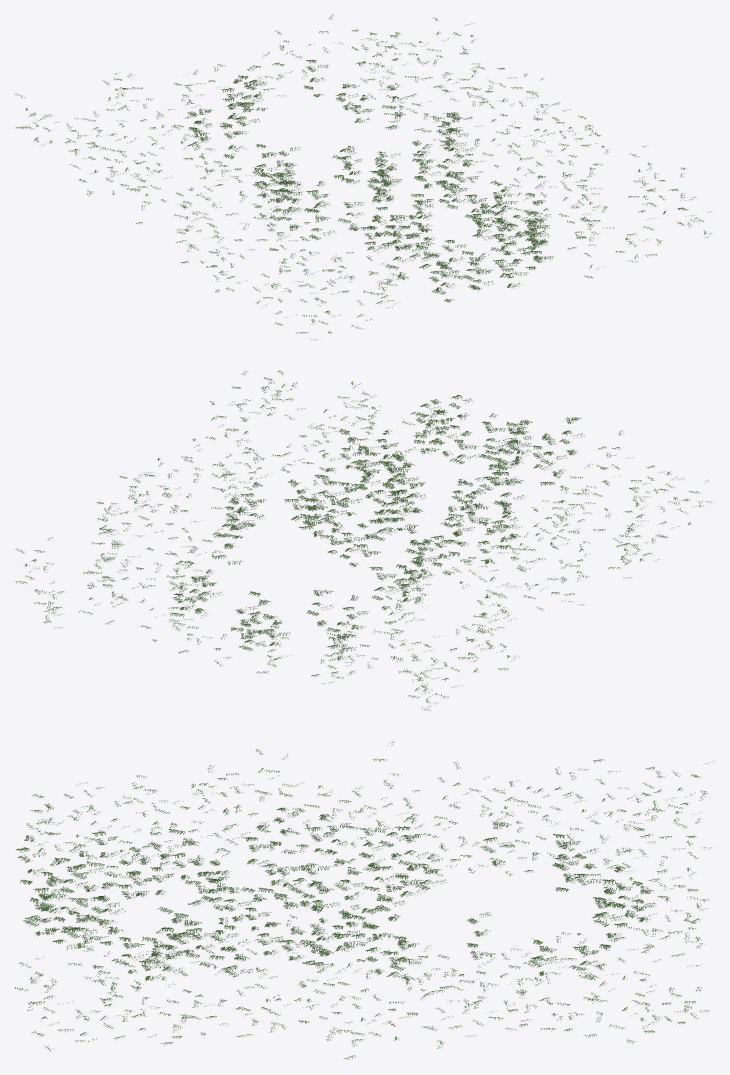
The model's file is bamboo_leaves_1.glb.
3 renders of one model, top to bottom at view 1: azimuth 30°, elevation 25°; view 2: azimuth 150°, elevation 25°; view 3: azimuth 270°, elevation 25°, orthographic. The views are drawn at different scales.
Visible parts, largest first — view 1: bamboo_leaves_10, bamboo_leaves_11, bamboo_leaves_12; view 2: bamboo_leaves_10, bamboo_leaves_11, bamboo_leaves_12; view 3: bamboo_leaves_10, bamboo_leaves_11, bamboo_leaves_12.
Boxes of the visible parts, x1=… form: bamboo_leaves_10: x1=15, y1=14, x2=570, y2=242; bamboo_leaves_11: x1=177, y1=115, x2=662, y2=308; bamboo_leaves_12: x1=275, y1=167, x2=711, y2=339; bamboo_leaves_10: x1=15, y1=472, x2=583, y2=710; bamboo_leaves_11: x1=129, y1=401, x2=679, y2=580; bamboo_leaves_12: x1=231, y1=370, x2=713, y2=525; bamboo_leaves_10: x1=334, y1=740, x2=710, y2=1048; bamboo_leaves_11: x1=118, y1=749, x2=367, y2=1060; bamboo_leaves_12: x1=15, y1=782, x2=149, y2=1051.
Bounding box in the file's own units: 82.94 × 10.57 × 93.89.
Materials: 1 (1 with a texture image).
